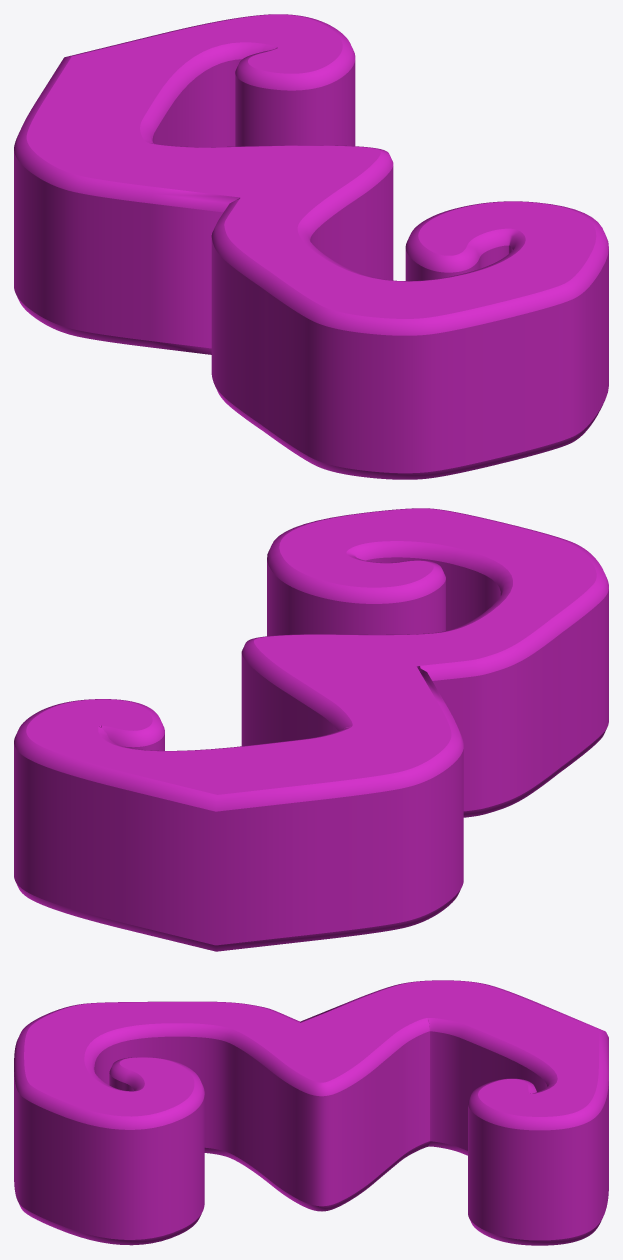
File: Number_3.fbx
The picture shows the model from 3 angles, top to bottom: view 1: azimuth 30°, elevation 25°; view 2: azimuth 150°, elevation 25°; view 3: azimuth 270°, elevation 25°; orthographic projection. The views are drawn at different scales.
Visible parts, largest first — view 1: Number_3; view 2: Number_3; view 3: Number_3.
Boxes of the visible parts, x1,y1,x2,y2 form: Number_3: (14,14,608,479); Number_3: (14,508,608,951); Number_3: (14,980,608,1245).
Size of the model in its own units: 0.339 by 0.14 by 0.5882.
